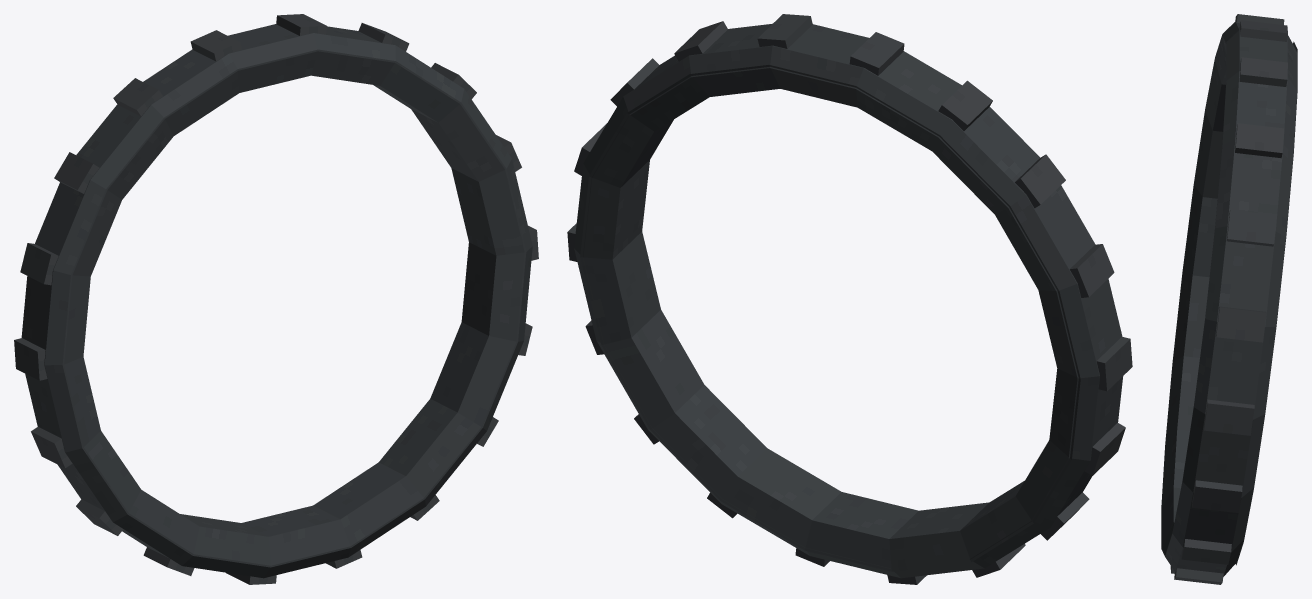
File: tire_bicycle.glb
The picture shows the model from 3 angles, left to right: view 1: azimuth 30°, elevation 25°; view 2: azimuth 150°, elevation 25°; view 3: azimuth 270°, elevation 25°; orthographic projection. The views are drawn at different scales.
Parts seen in each view (by area): view 1: block_wheel cross section, block_tread block (×8); view 2: block_wheel cross section, block_tread block (×8); view 3: block_wheel cross section, block_tread block (×10).
Part boxes in pixels (x1,y1,x2,y2): block_wheel cross section: [21, 24, 532, 578]; block_tread block (×8): [14, 14, 326, 535]; block_wheel cross section: [574, 23, 1123, 578]; block_tread block (×8): [674, 14, 1132, 475]; block_wheel cross section: [1161, 21, 1297, 576]; block_tread block (×10): [1174, 14, 1287, 584].
Bounding box in the file's own units: 0.686 × 0.6837 × 0.1647.
1 material, 1 textured.
